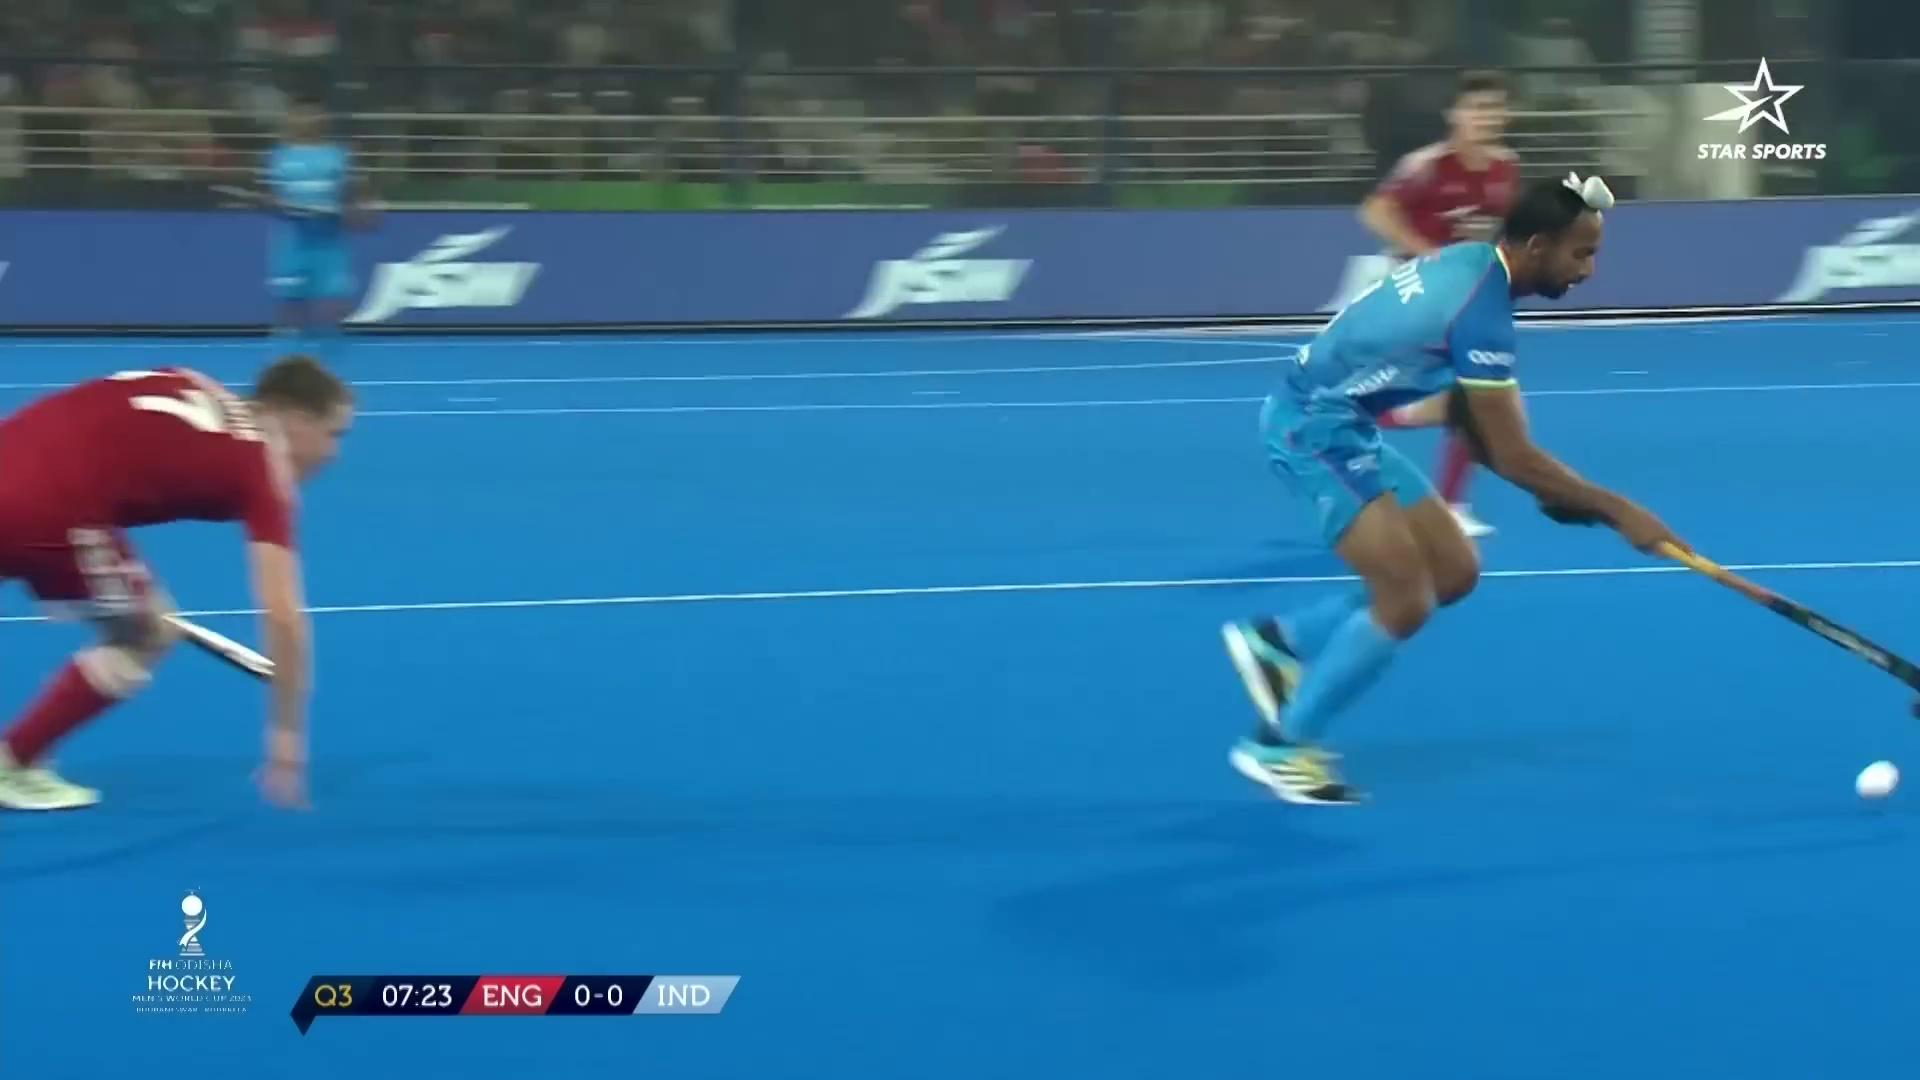ball: (1841, 754, 1920, 806)
